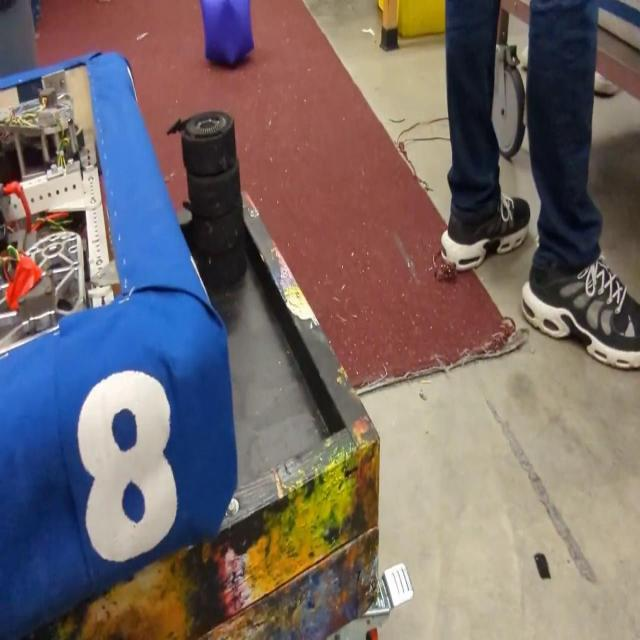frc_cube: (200, 0, 253, 68)
